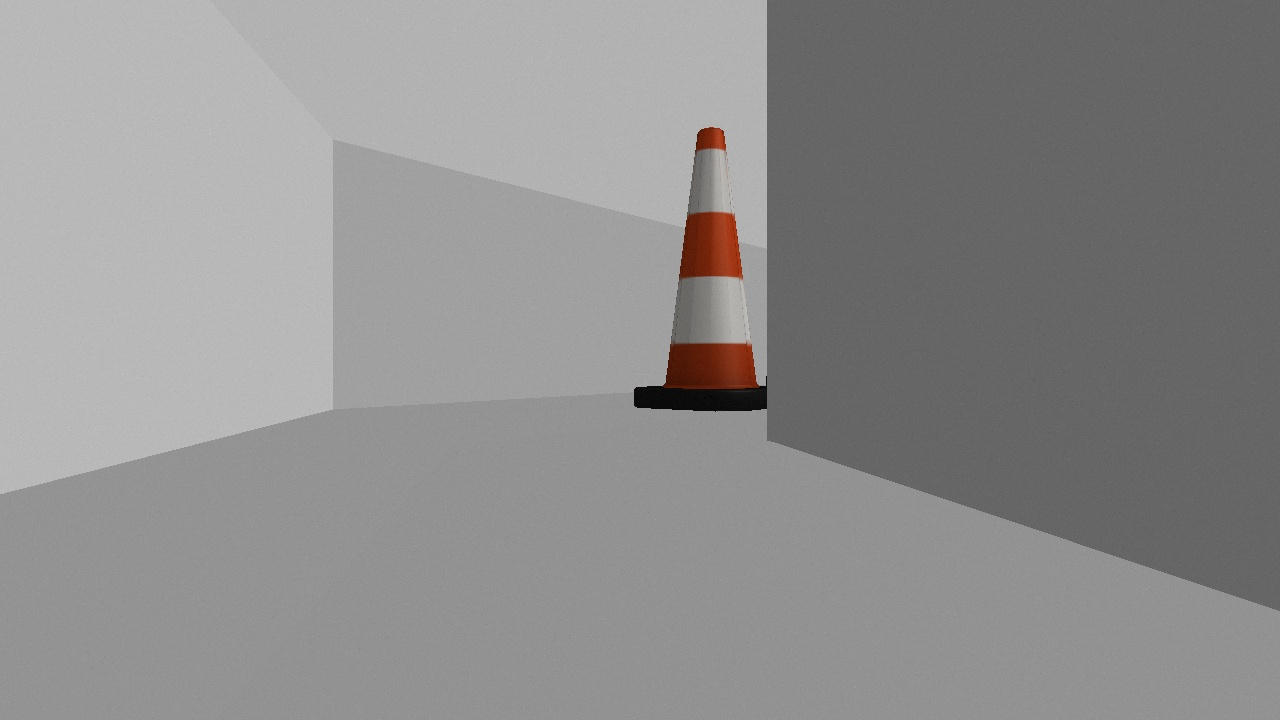barricade: (633, 126, 784, 412)
